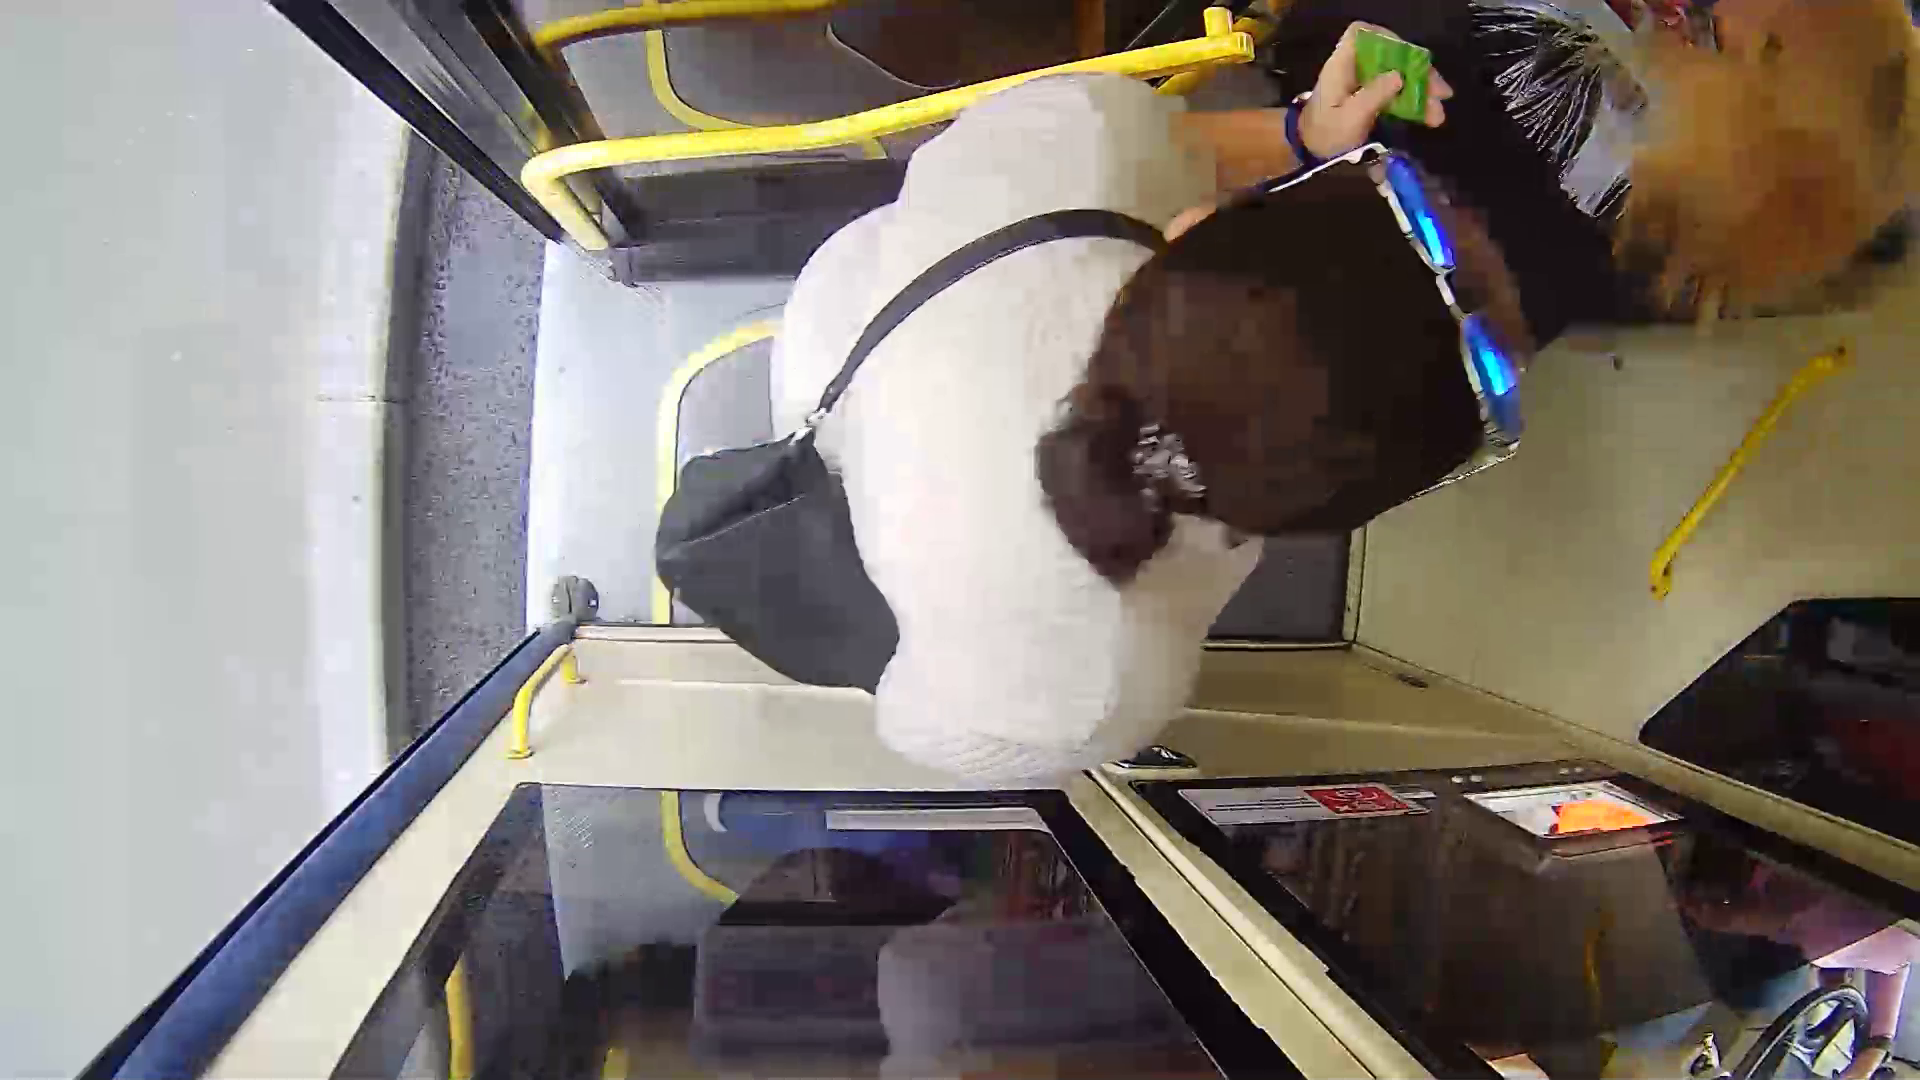person: (732, 68, 1577, 774)
